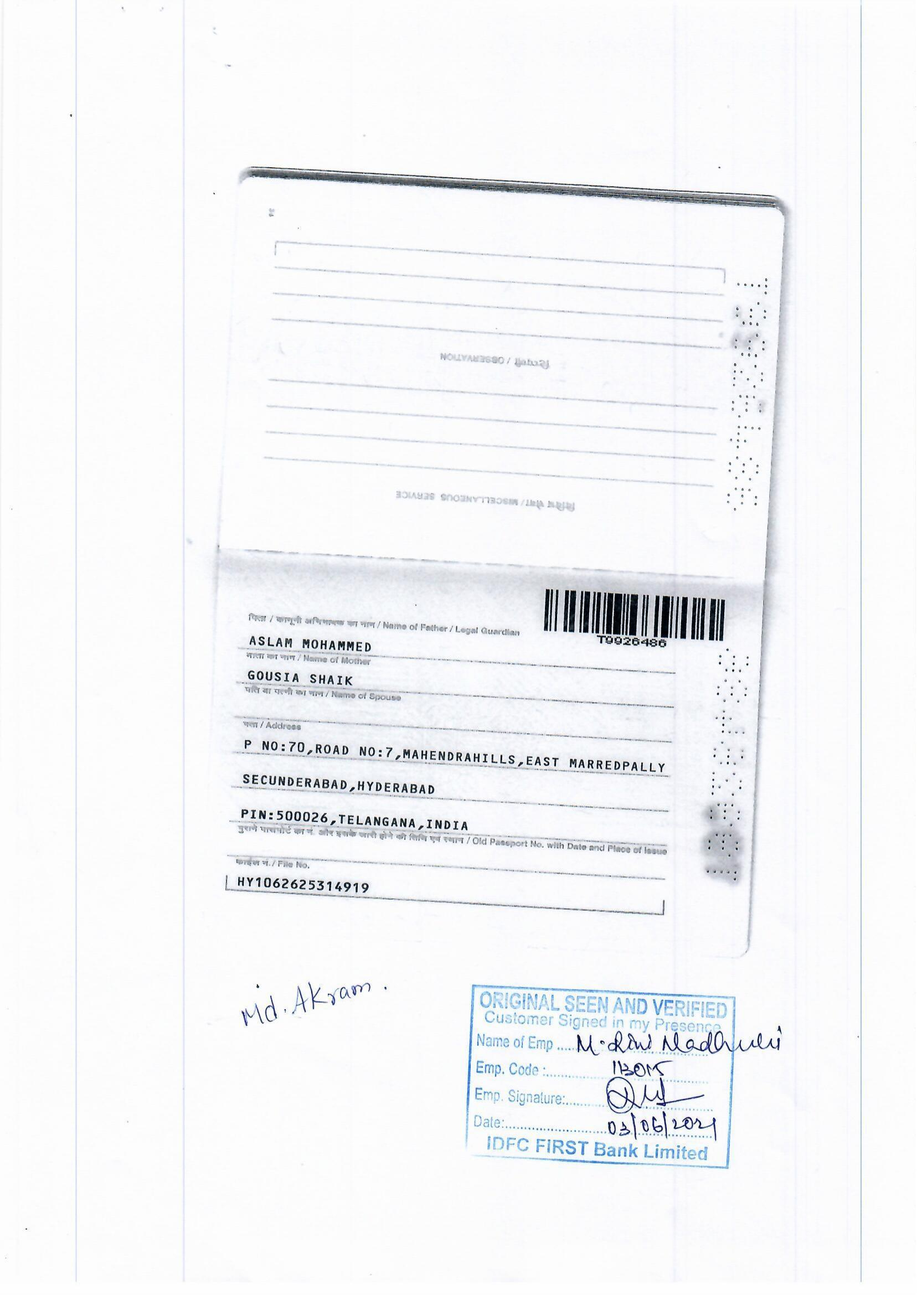File_no: (228, 870, 376, 907)
address: (229, 711, 678, 839)
father_name: (239, 623, 378, 654)
mother_name: (237, 663, 365, 689)
passport_no: (586, 625, 670, 661)
